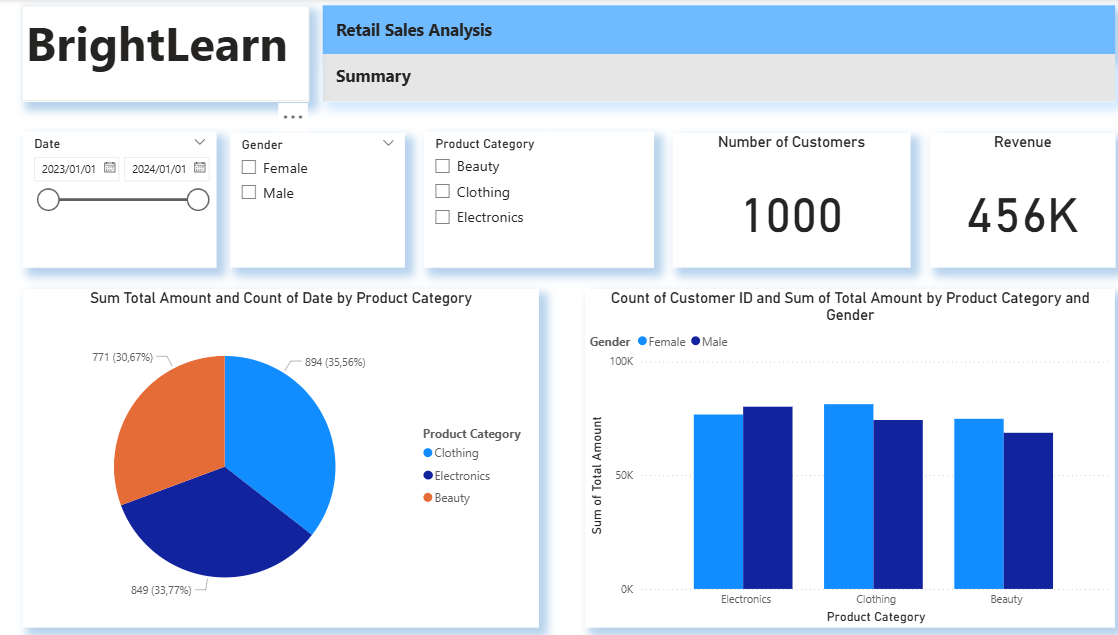

Layout of this report page (visuals, bound fields, positions):
{"tool":"powerbi","page":{"name":"Page 1","canvas":[1280,720],"ordinal":0},"visuals":[{"type":"clusteredColumnChart","title":"Count of Customer ID and Sum of Total Amount by Product Category and Gender","fields":{"Category":["retail_sales_dataset.Product Category"],"Y":["Sum(retail_sales_dataset.Total Amount)"],"Series":["retail_sales_dataset.Gender"]},"box":[671.8,326.8,597.2,381.7],"z":0},{"type":"slicer","fields":{"Values":["retail_sales_dataset.Date"]},"box":[38,149.3,218.3,153.5],"z":1000},{"type":"slicer","fields":{"Values":["retail_sales_dataset.Gender"]},"box":[271.8,150.7,197.2,152.1],"z":2000},{"type":"card","title":"Number of Customers","fields":{"Values":["Count(retail_sales_dataset.Customer ID)"]},"box":[770.4,150.7,267.6,152.1],"z":3000},{"type":"pieChart","title":"Sum Total Amount and Count of Date  by Product Category","fields":{"Category":["retail_sales_dataset.Product Category"],"Y":["Sum(retail_sales_dataset.Quantity)"]},"box":[38,326.8,581.7,381.7],"z":4000},{"type":"card","title":"Revenue","fields":{"Values":["Sum(retail_sales_dataset.Total Amount)"]},"box":[1060.6,150.7,208.5,152.1],"z":5000},{"type":"slicer","fields":{"Values":["retail_sales_dataset.Product Category"]},"box":[490.1,149.3,259.2,153.5],"z":6000},{"type":"shape","box":[376.1,7,893,54.9],"z":7000},{"type":"shape","box":[376.1,62,893,53.5],"z":8000},{"type":"textbox","box":[385.9,16.9,285.9,39.4],"z":9000},{"type":"textbox","box":[385.9,69,397.2,46.5],"z":10000},{"type":"textbox","box":[36.6,7,323.9,108.5],"z":11000}]}

Visuals, with their boxes in screenshot pixels (x1, y1, x2, y2), scaled from the page's 1280x720 canvas onto the 1118x635 screenshot:
"Count of Customer ID and Sum of Total Amount by Product Category and Gender" clusteredColumnChart: x1=587, y1=288, x2=1108, y2=625
slicer - retail_sales_dataset.Date: x1=33, y1=132, x2=224, y2=267
slicer - retail_sales_dataset.Gender: x1=237, y1=133, x2=410, y2=267
"Number of Customers" card: x1=673, y1=133, x2=907, y2=267
"Sum Total Amount and Count of Date  by Product Category" pieChart: x1=33, y1=288, x2=541, y2=625
"Revenue" card: x1=926, y1=133, x2=1108, y2=267
slicer - retail_sales_dataset.Product Category: x1=428, y1=132, x2=654, y2=267
shape: x1=328, y1=6, x2=1108, y2=55
shape: x1=328, y1=55, x2=1108, y2=102
textbox: x1=337, y1=15, x2=587, y2=50
textbox: x1=337, y1=61, x2=684, y2=102
textbox: x1=32, y1=6, x2=315, y2=102
